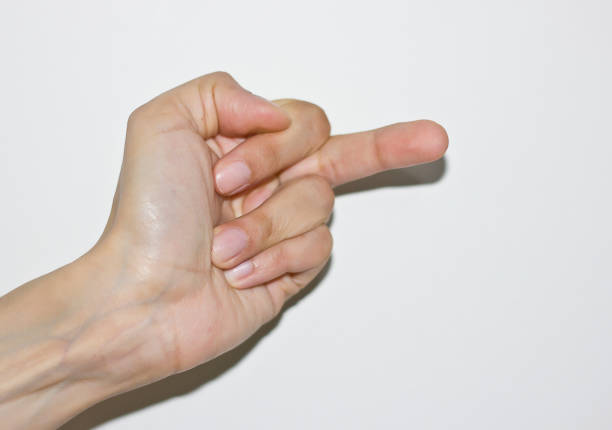insulting_gesture: (88, 65, 452, 372)
